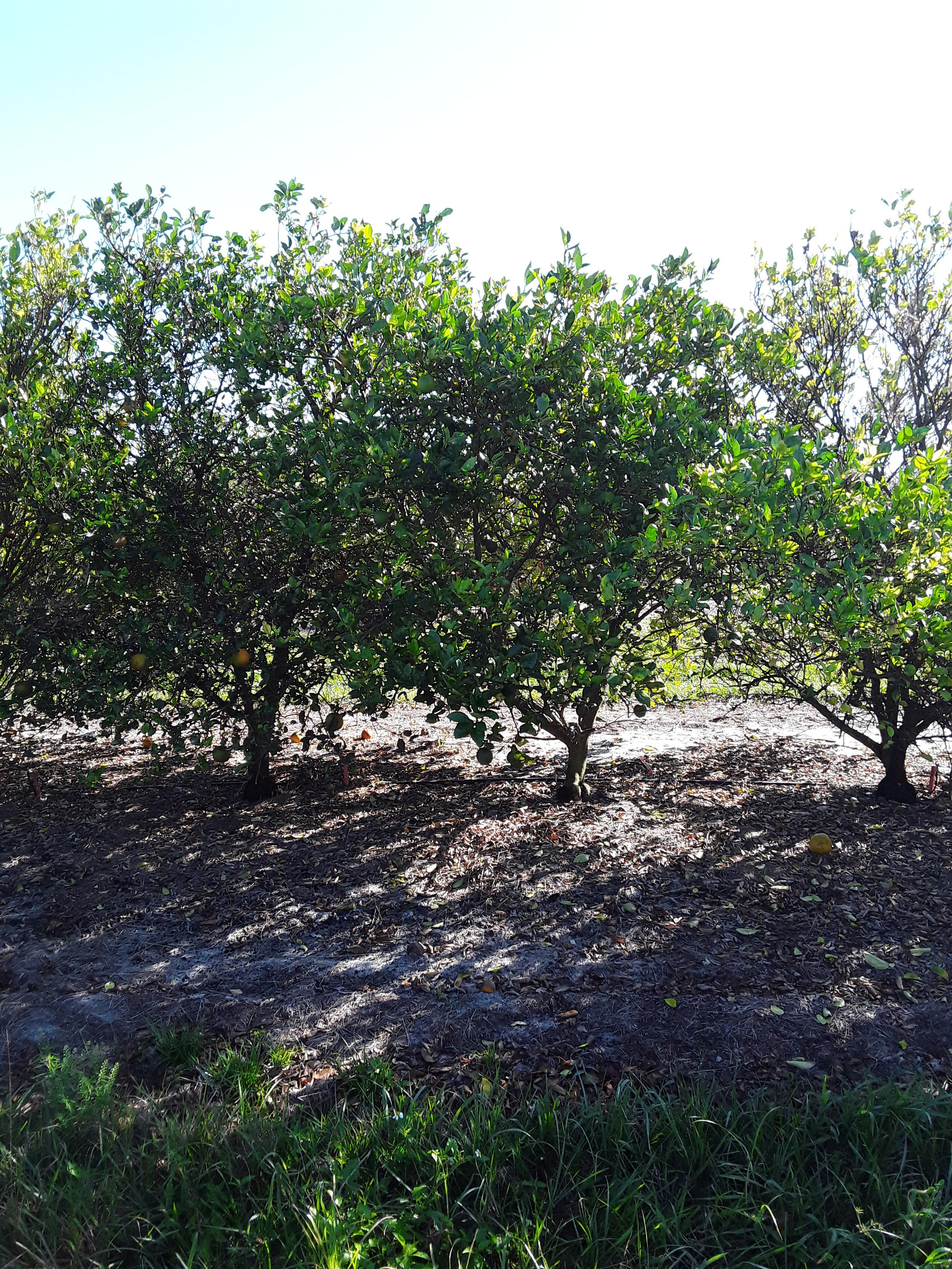fruit_on_ground: (332, 346, 356, 372), (227, 645, 253, 669), (413, 372, 437, 395), (322, 711, 345, 734), (11, 678, 34, 699), (210, 743, 233, 764), (128, 651, 150, 672), (330, 565, 351, 586), (371, 507, 391, 528), (474, 746, 495, 766), (555, 568, 574, 587), (110, 531, 129, 550), (702, 625, 721, 643), (558, 463, 577, 481), (574, 499, 593, 517), (573, 520, 592, 538), (508, 755, 526, 773), (574, 701, 591, 718), (632, 703, 648, 718), (505, 750, 520, 765), (340, 396, 355, 410), (484, 540, 499, 554)
fruit_on_tree: (805, 829, 834, 858), (139, 733, 155, 750), (359, 727, 375, 741), (289, 731, 303, 745)
